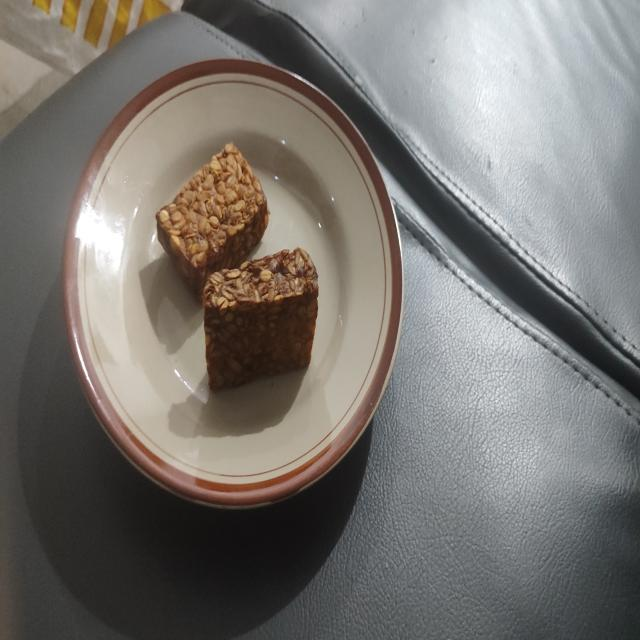tempe_goreng: (156, 142, 268, 303), (203, 250, 319, 391)
